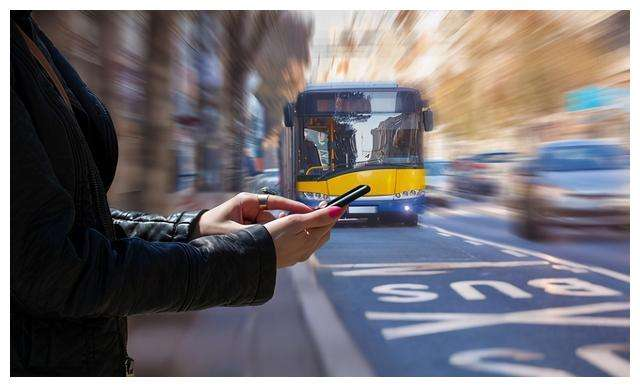reading: (199, 176, 375, 268)
